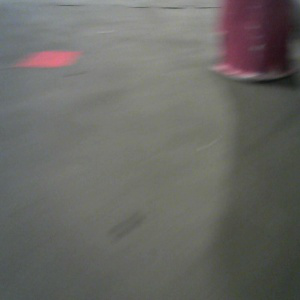Right: (220, 2, 298, 81)
